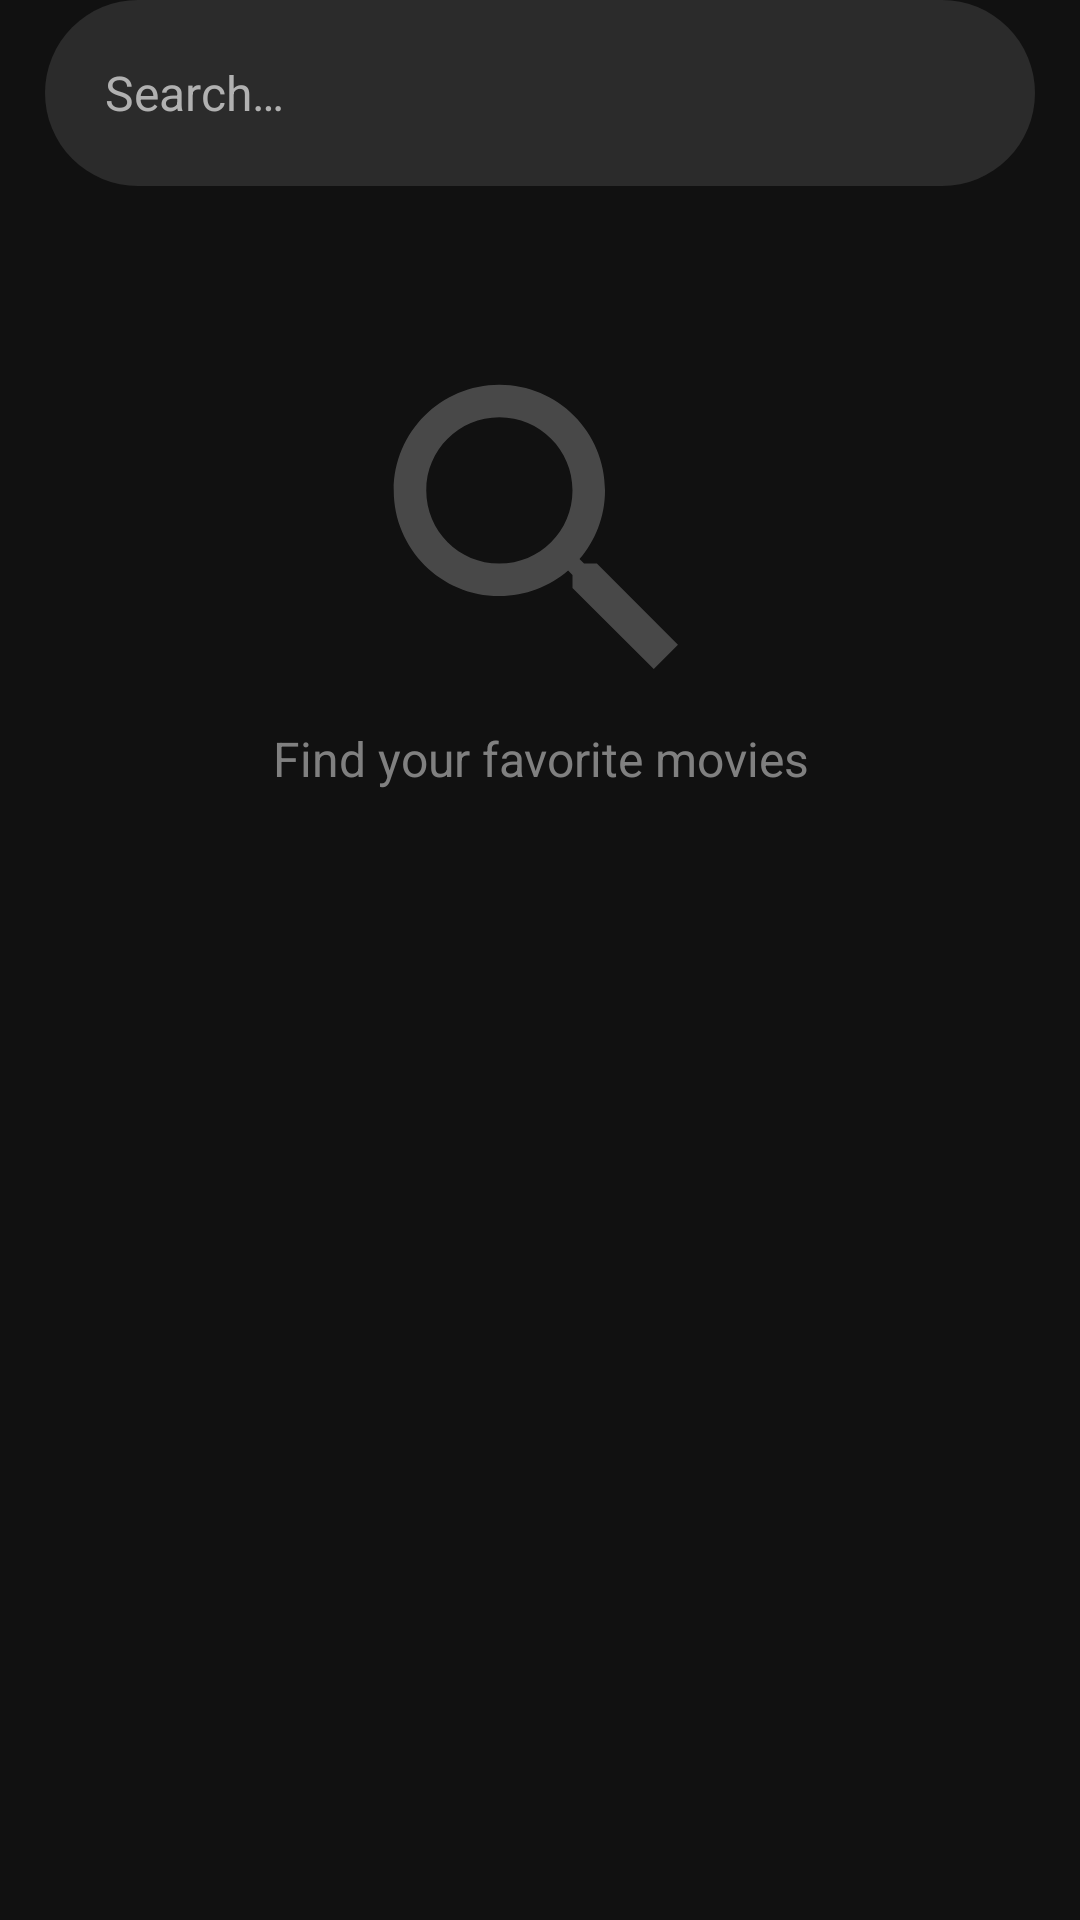

Locate icon controls on the screen. Image size 1080 x 1920, boxes as (x1, y1, x2, y2).
search: (394, 385, 678, 669)
